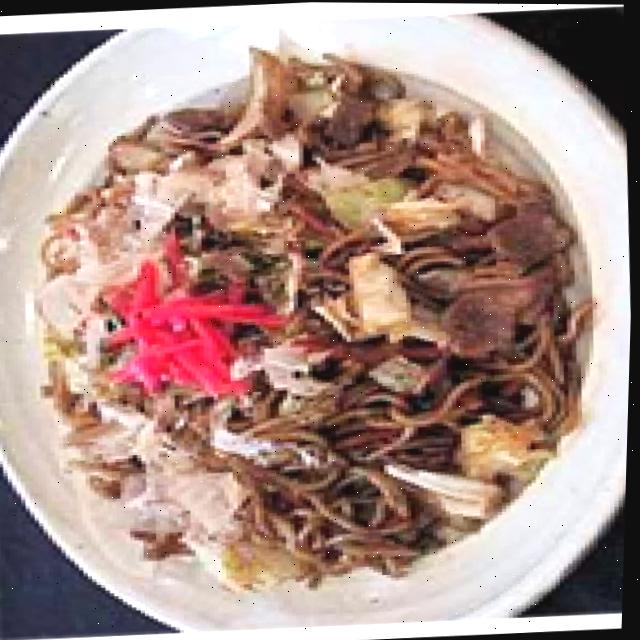面条主食: (0, 13, 610, 614)
